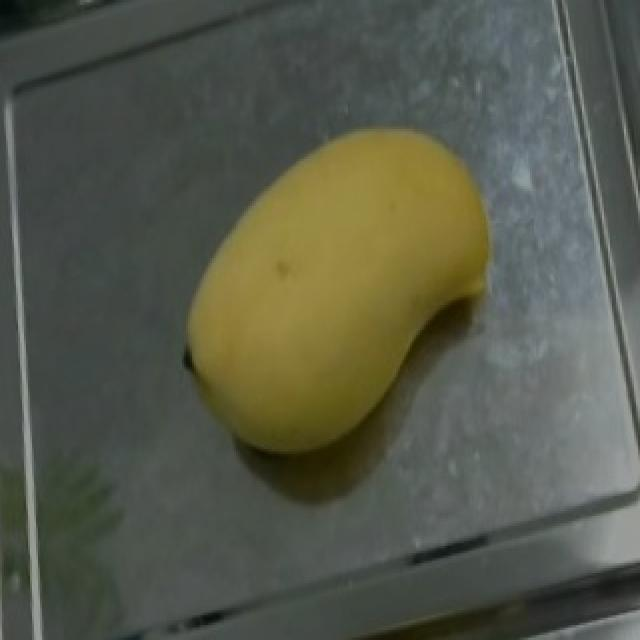fruit: (142, 80, 534, 487)
